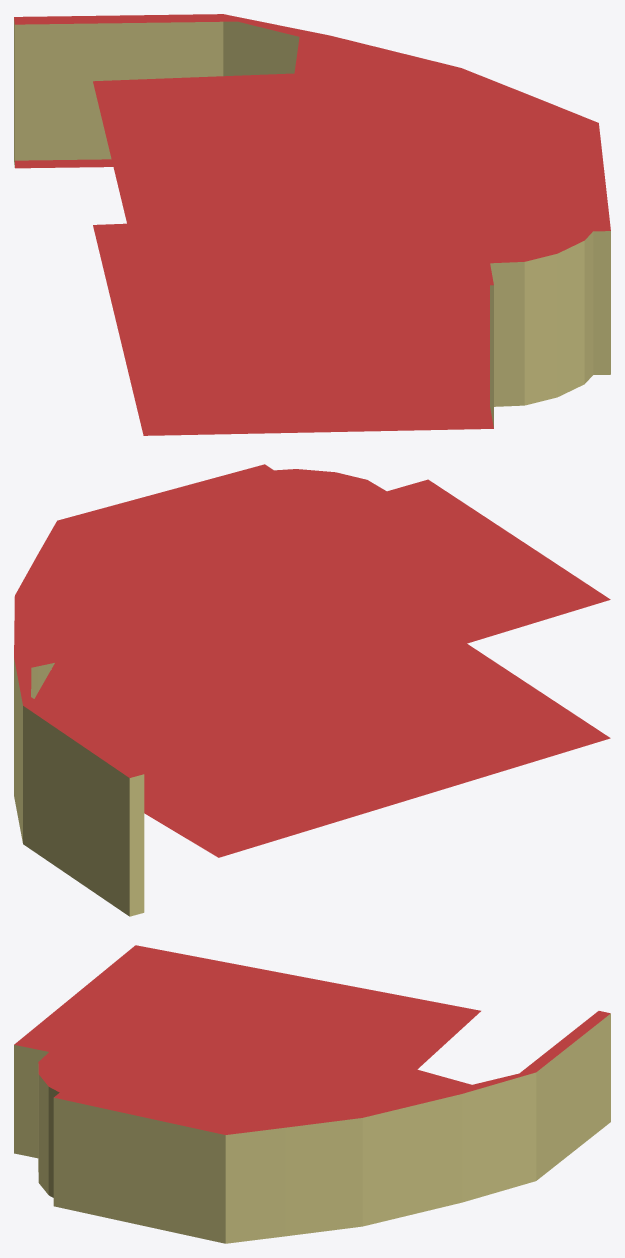
3 views of the same model, one above another, from view 1: azimuth 30°, elevation 25°; view 2: azimuth 150°, elevation 25°; view 3: azimuth 270°, elevation 25° (orthographic). The views are drawn at different scales.
Visible parts, largest first — view 1: group_3, group_5, group_4; view 2: group_3, group_5, group_4; view 3: group_4, group_3.
Boxes of the visible parts, bbox=[...] form: group_3: bbox=[14, 14, 610, 291]; group_5: bbox=[15, 159, 493, 435]; group_4: bbox=[14, 18, 610, 427]; group_3: bbox=[14, 464, 610, 777]; group_5: bbox=[34, 643, 610, 857]; group_4: bbox=[14, 658, 144, 916]; group_4: bbox=[14, 1013, 610, 1243]; group_3: bbox=[14, 945, 610, 1134].
Size of the model in its own units: 24.46 by 32.48 by 6.52.
